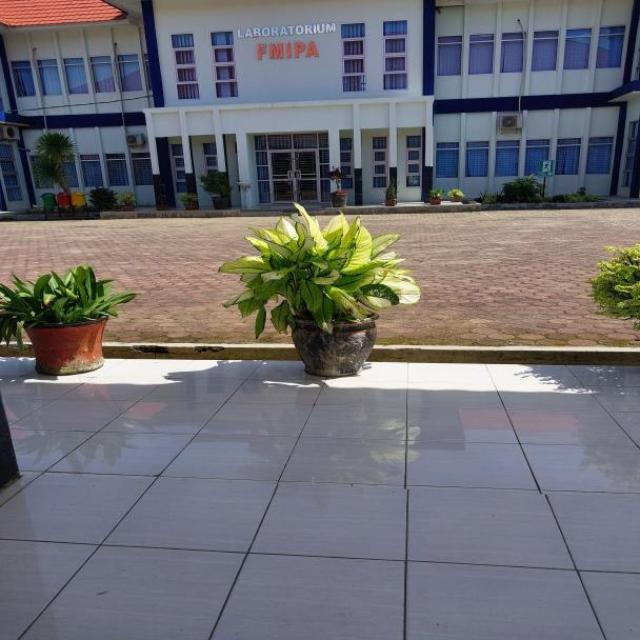plant ahead at: (220, 201, 416, 376), (0, 265, 135, 372)
